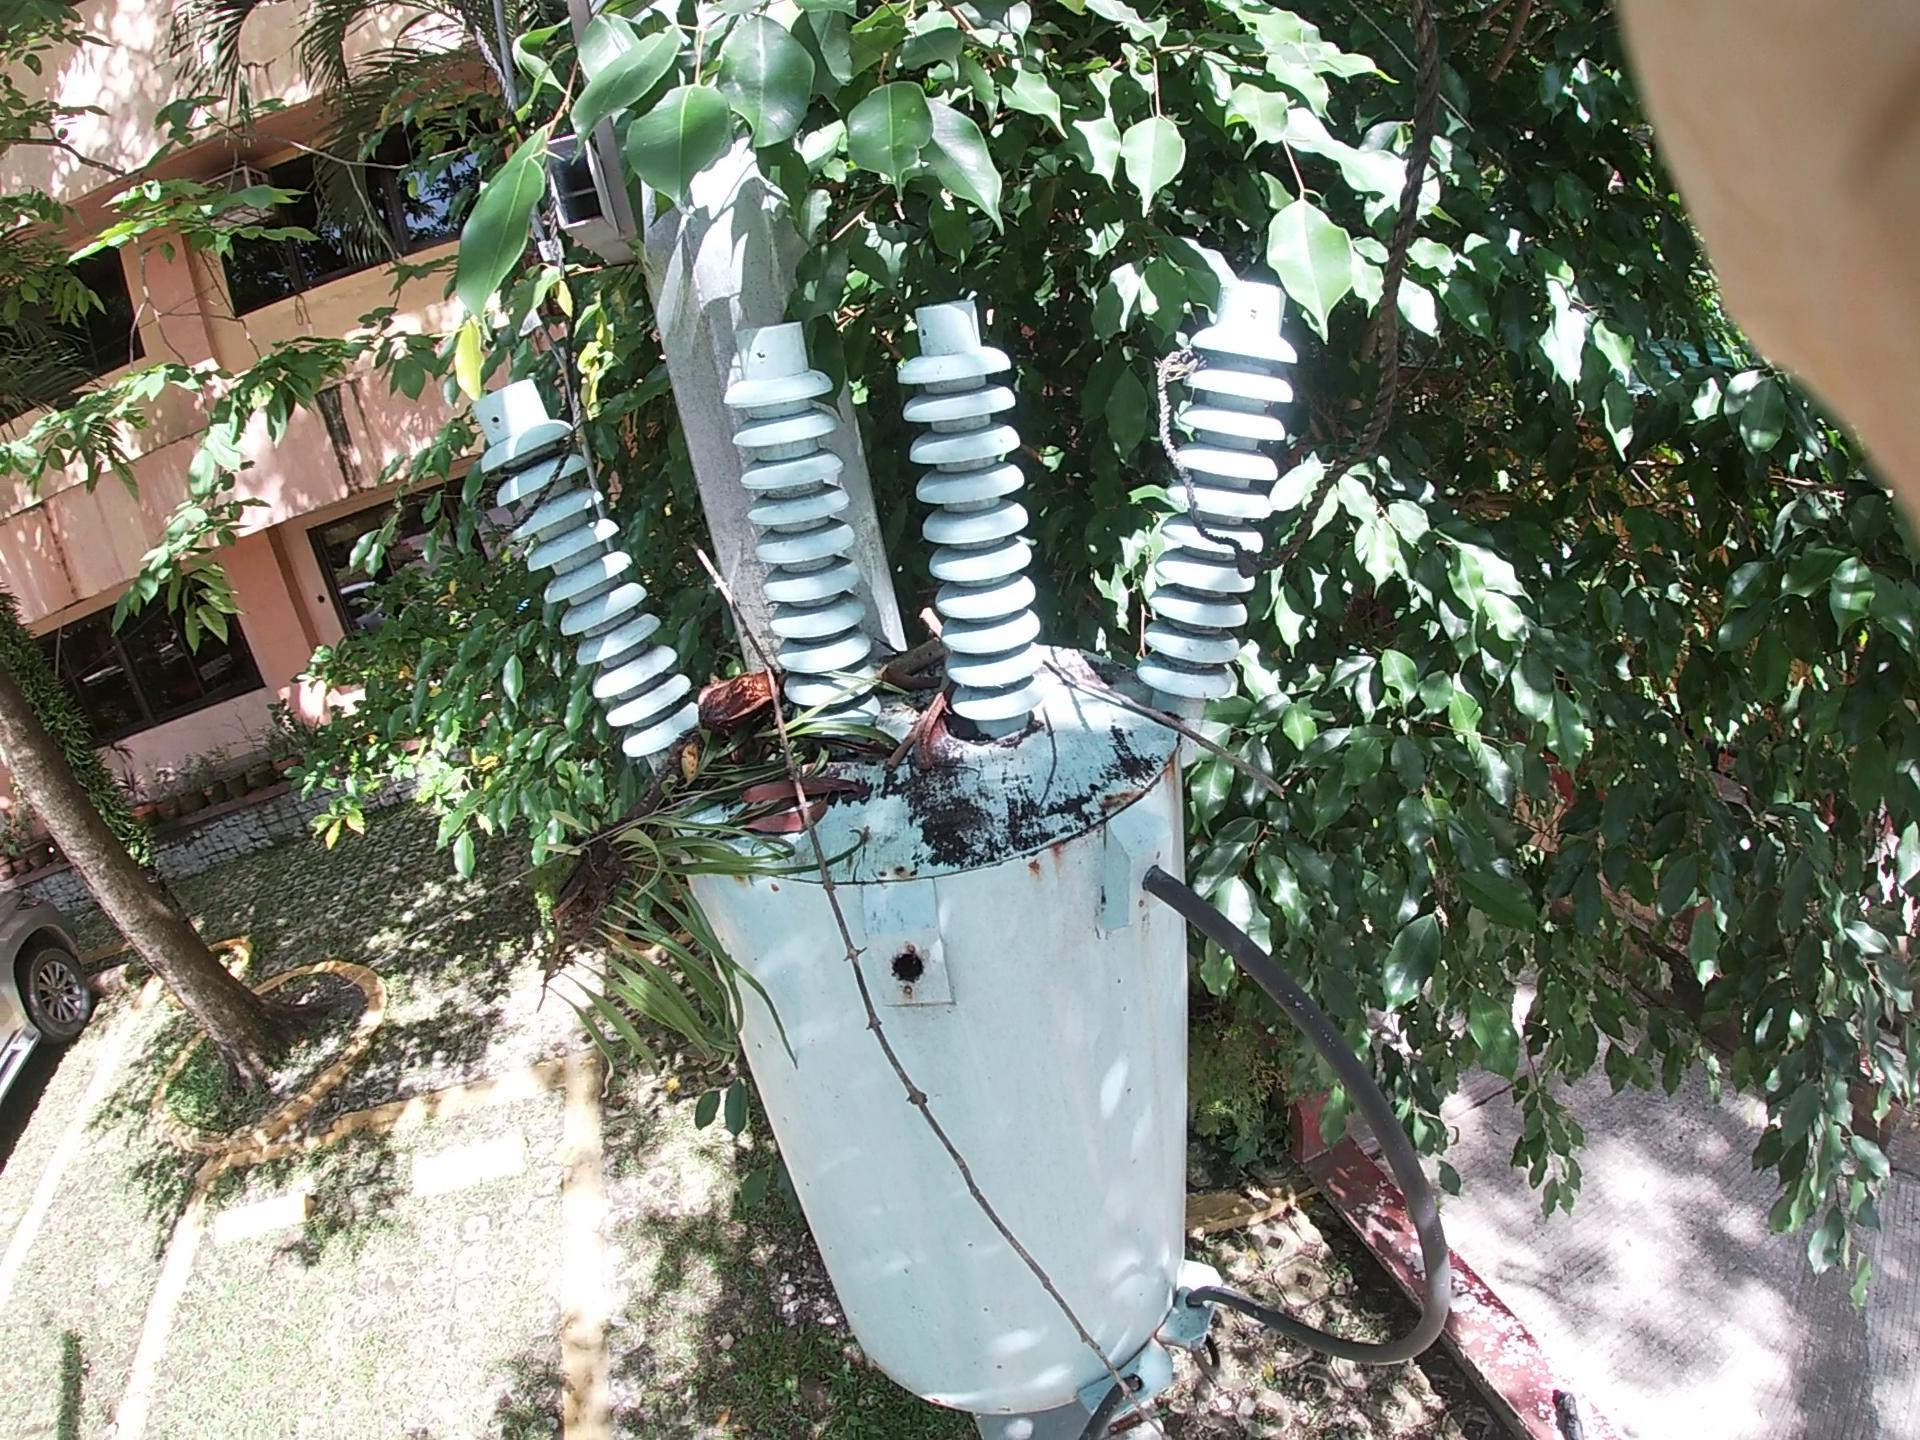branch with leaves: (532, 520, 853, 1001)
leaf: (741, 731, 865, 877)
mahogany fruit: (659, 650, 804, 811), (884, 635, 1011, 791)
tree branch: (701, 531, 1064, 1321), (952, 551, 1336, 812), (883, 535, 981, 871)
